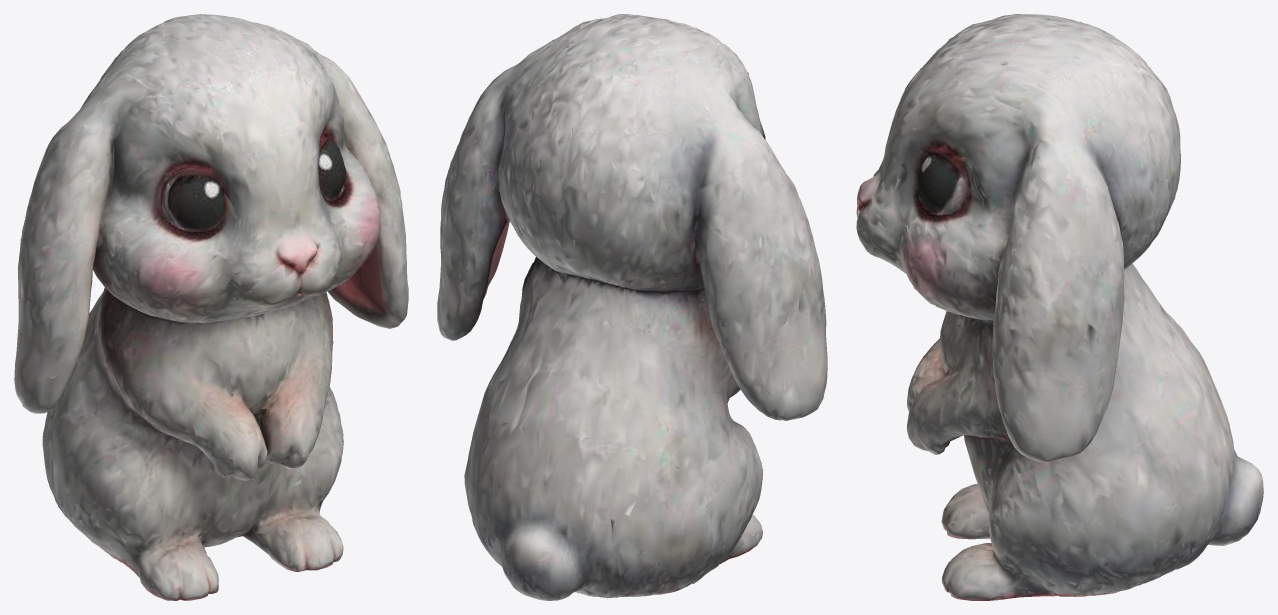
3 views of the same model, side by side, from view 1: azimuth 30°, elevation 25°; view 2: azimuth 150°, elevation 25°; view 3: azimuth 270°, elevation 25° (orthographic). The views are drawn at different scales.
Size of the model in its own units: 1.46 by 1.9 by 1.34.
Materials: 1 (1 with a texture image).
